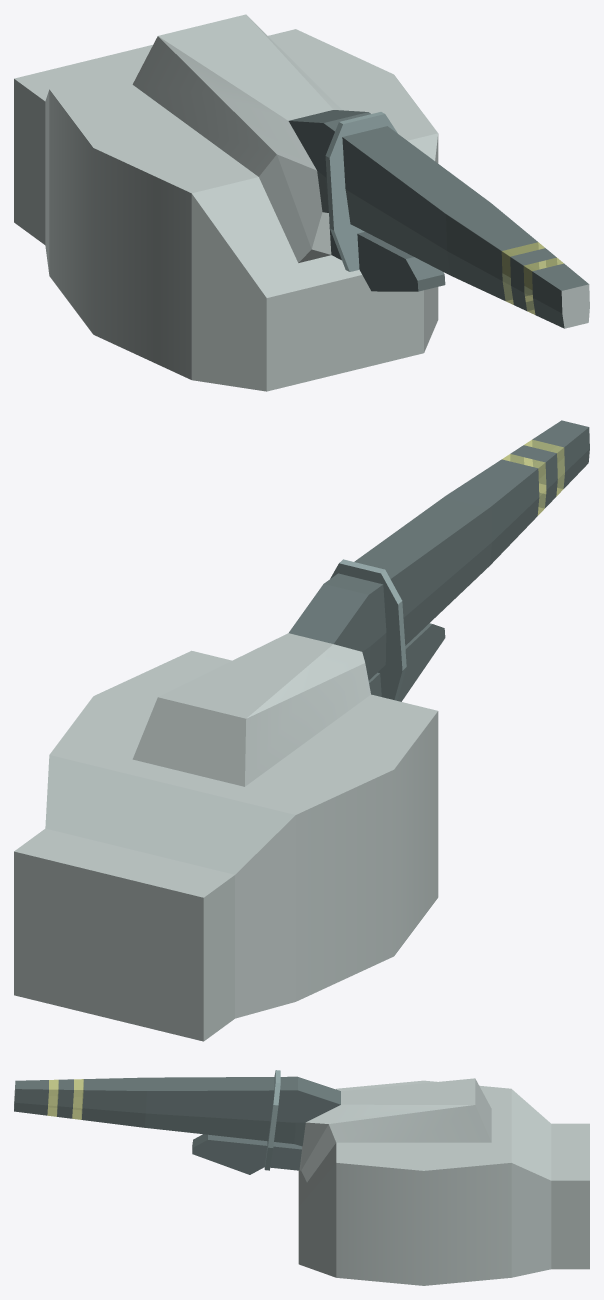
The model's file is SpaceShip_Gun_1.fbx.
3 renders of one model, top to bottom at view 1: azimuth 30°, elevation 25°; view 2: azimuth 150°, elevation 25°; view 3: azimuth 270°, elevation 25°, orthographic. The views are drawn at different scales.
Parts seen in each view (by area): view 1: SideGun_Platform.001; view 2: SideGun_Platform.001; view 3: SideGun_Platform.001.
Boxes of the visible parts, x1,y1,x2,y2 form: SideGun_Platform.001: (14, 14, 589, 391); SideGun_Platform.001: (14, 420, 589, 1041); SideGun_Platform.001: (14, 1070, 589, 1285).
Bounding box in the file's own units: 24.98 × 21.2 × 67.29.
